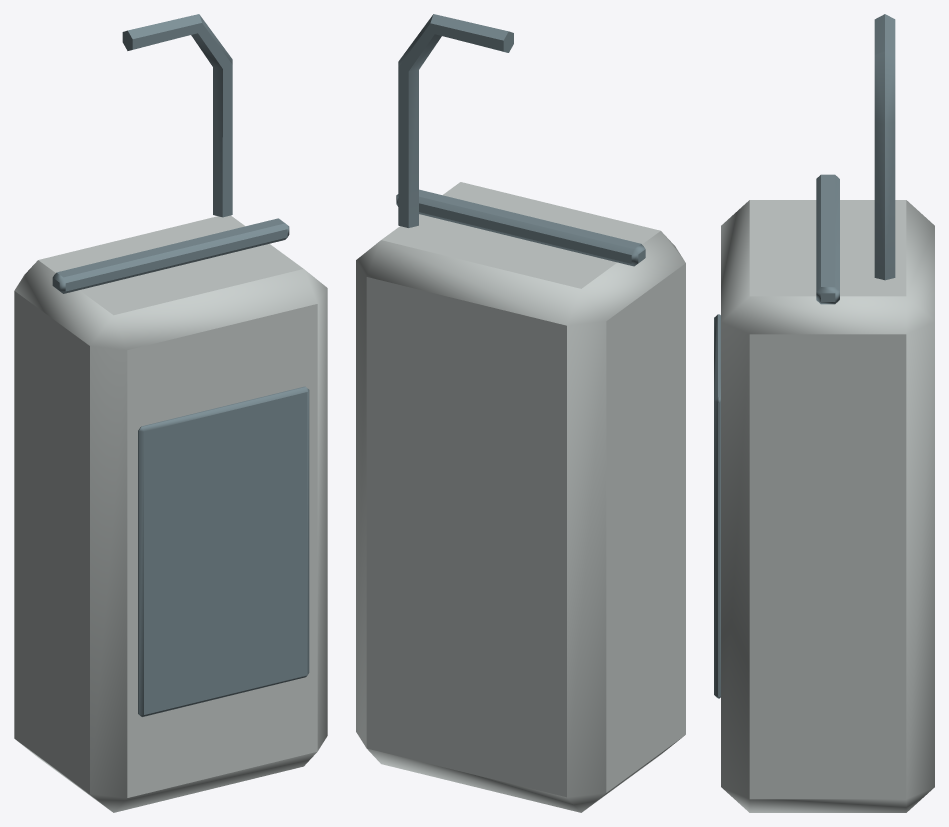
Rendered from juice-box.glb.
3 views of the same model, side by side, from view 1: azimuth 30°, elevation 25°; view 2: azimuth 150°, elevation 25°; view 3: azimuth 270°, elevation 25° (orthographic). The views are drawn at different scales.
Visible parts, largest first — view 1: carton, front_panel, top_crimp, bendy_straw; view 2: carton, bendy_straw, top_crimp; view 3: carton, bendy_straw, top_crimp, front_panel.
Boxes of the visible parts, x1,y1,x2,y2 form: carton: (14,215,327,812); front_panel: (138,386,309,716); top_crimp: (52,218,289,293); bendy_straw: (122,14,232,217); carton: (356,182,685,812); bendy_straw: (398,14,513,227); top_crimp: (396,189,645,266); carton: (721,200,934,812); bendy_straw: (874,14,895,280); top_crimp: (816,174,839,304); front_panel: (714,314,720,698).
Size of the model in its own units: 0.06 by 0.1725 by 0.0465.
